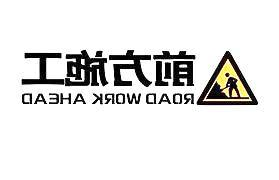sign: (20, 49, 262, 111)
